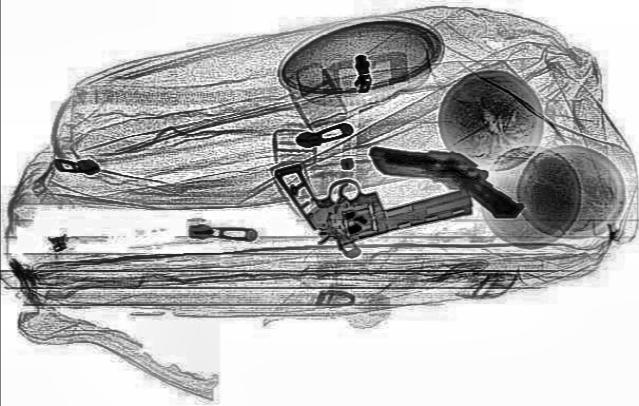Gun: (270, 132, 483, 248), (359, 123, 527, 237)
